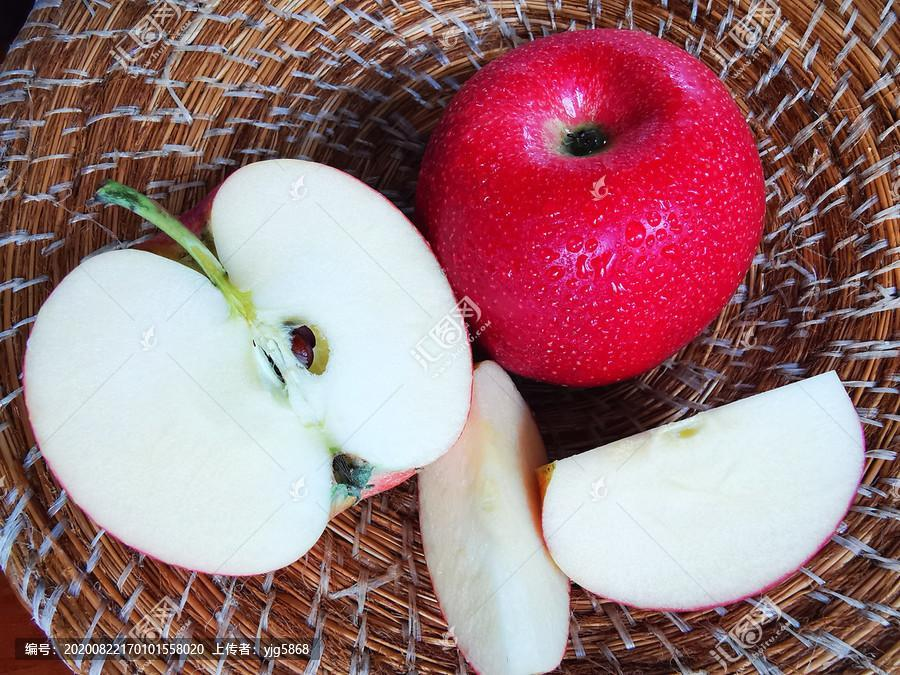apple: (410, 27, 760, 393)
